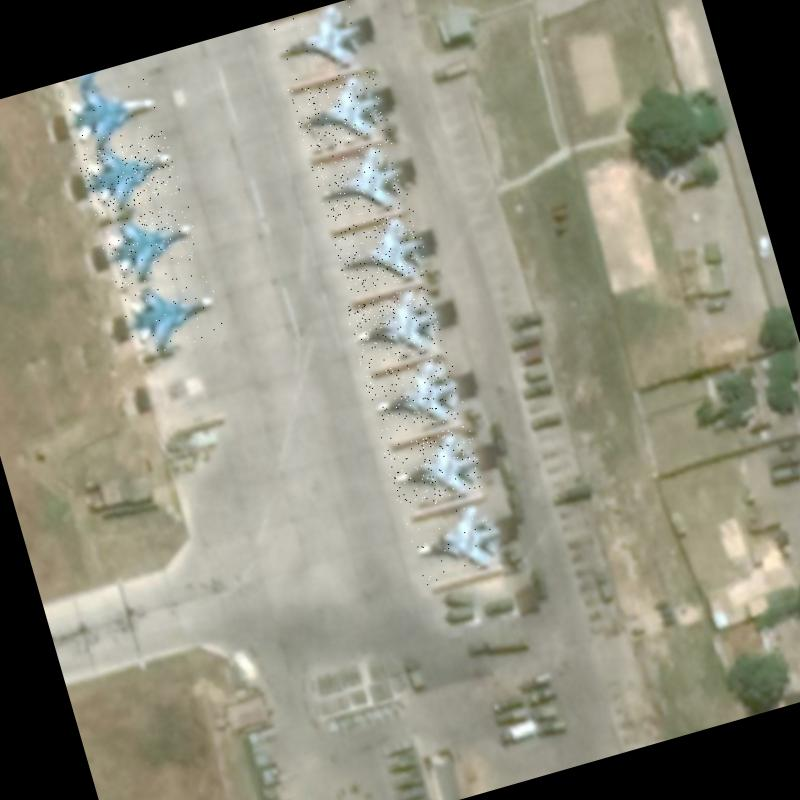A1: (286, 65, 390, 155), (310, 137, 412, 228), (330, 207, 431, 296), (267, 0, 369, 83)
A19: (116, 267, 226, 358), (96, 200, 205, 290), (403, 494, 509, 586), (363, 350, 468, 440), (382, 423, 486, 513), (76, 130, 182, 218), (57, 67, 164, 154), (343, 282, 446, 370)
